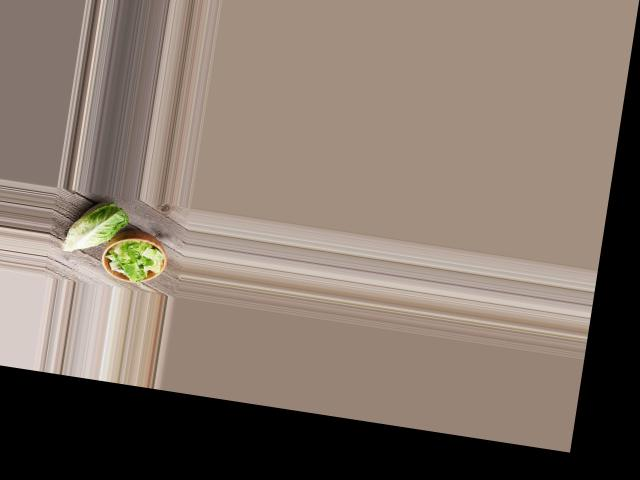lettuce: (62, 195, 130, 260)
